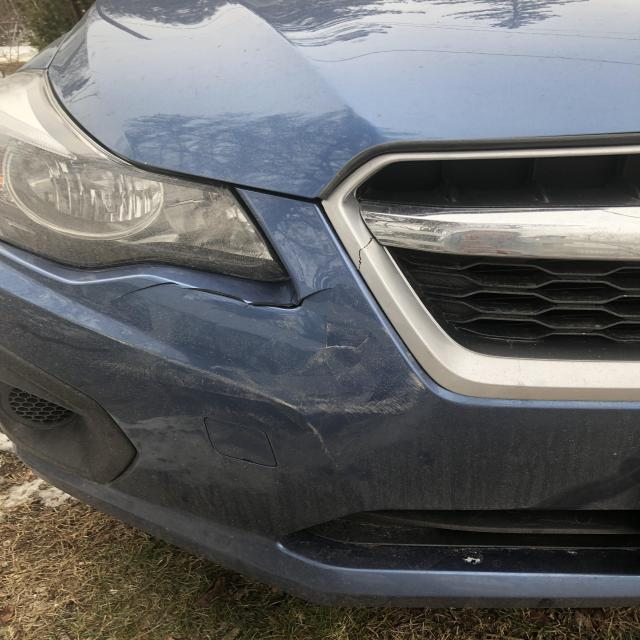scratch: (60, 306, 430, 471)
tear: (109, 281, 344, 314), (357, 236, 376, 271)
